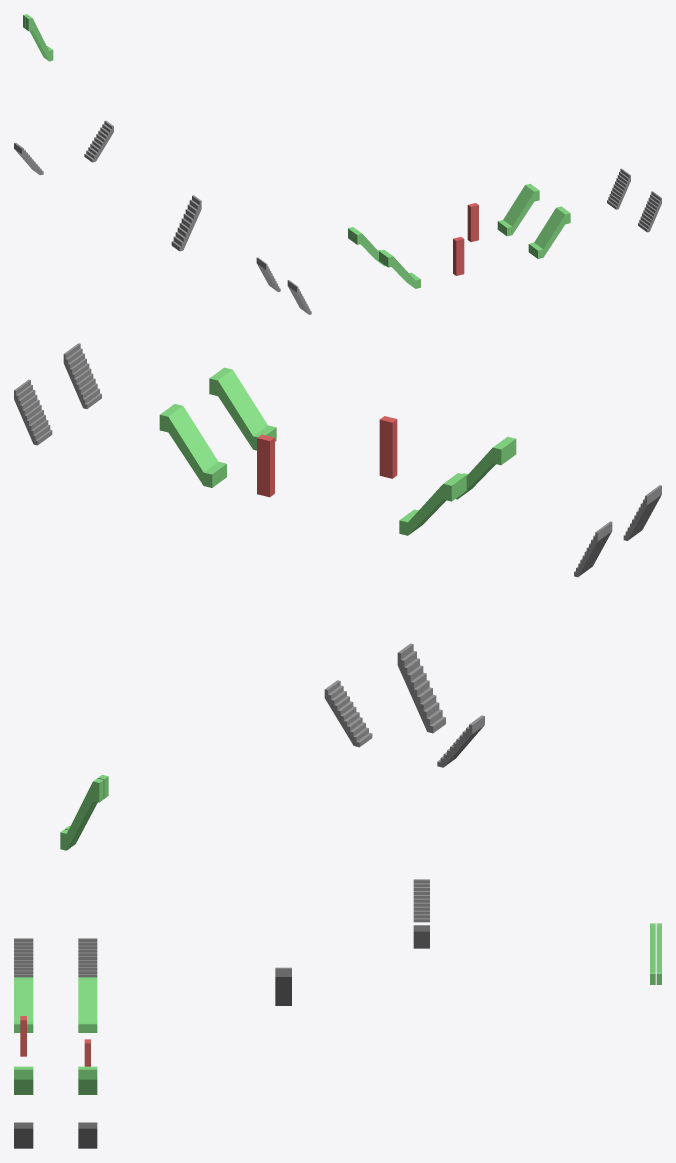
3 renders of one model, top to bottom at view 1: azimuth 30°, elevation 25°; view 2: azimuth 150°, elevation 25°; view 3: azimuth 270°, elevation 25°, orthographic. The views are drawn at different scales.
Parts seen in each view (by area): view 1: エスカレーター.004, エスカレーター.003, 階段.012, 階段.030, エスカレーター.002, 階段.005, 階段.003, エレベーター.006, エレベーター.007; view 2: エスカレーター.004, エスカレーター.003, 階段.012, 階段.030, エスカレーター.005, 階段.003, 階段.005, エレベーター.007, エスカレーター.002, エレベーター.006, エスカレーター.041, 階段.004 (+2 smaller); view 3: エスカレーター.005, エスカレーター.002, 階段.002, 階段.004, 階段.029, 階段.012, エスカレーター.003, エスカレーター.004, 階段.003, 階段.005, 階段.030.
Boxes of the visible parts, x1,y1,x2,y2 form: エスカレーター.004: [497, 183, 539, 236]; エスカレーター.003: [528, 206, 570, 258]; 階段.012: [171, 195, 201, 251]; 階段.030: [84, 120, 113, 162]; エスカレーター.002: [379, 250, 420, 288]; 階段.005: [607, 168, 630, 209]; 階段.003: [638, 191, 661, 232]; エレベーター.006: [467, 203, 478, 241]; エレベーター.007: [453, 237, 464, 275]; エスカレーター.004: [159, 404, 226, 487]; エスカレーター.003: [209, 367, 276, 450]; 階段.012: [397, 643, 445, 733]; 階段.030: [324, 680, 372, 747]; エスカレーター.005: [399, 473, 466, 535]; 階段.003: [63, 343, 101, 408]; 階段.005: [14, 379, 52, 445]; エレベーター.007: [379, 416, 397, 478]; エスカレーター.002: [456, 436, 516, 499]; エレベーター.006: [257, 434, 274, 497]; エスカレーター.041: [60, 778, 103, 850]; 階段.004: [574, 521, 612, 577]; エスカレーター.005: [78, 977, 97, 1032]; エスカレーター.002: [14, 977, 33, 1032]; 階段.002: [14, 938, 33, 977]; 階段.004: [78, 938, 97, 977]; 階段.029: [413, 879, 429, 922]; 階段.012: [275, 967, 291, 1005]; エスカレーター.003: [14, 1066, 33, 1094]; エスカレーター.004: [78, 1066, 97, 1094]; 階段.003: [14, 1122, 33, 1148]; 階段.005: [78, 1122, 97, 1148]; 階段.030: [413, 925, 429, 948].
Size of the model in its own units: 16652 by 3292 by 20184.
